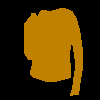maglia: (24, 8, 83, 96)
